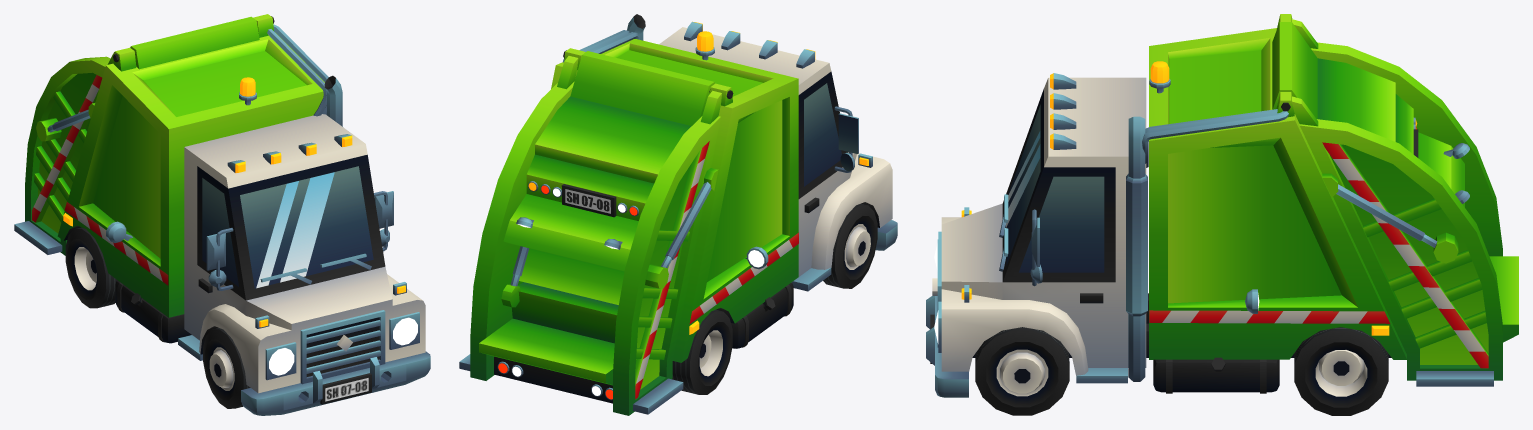
File: Garbage_truck.fbx
3 renders of one model, left to right at view 1: azimuth 30°, elevation 25°; view 2: azimuth 150°, elevation 25°; view 3: azimuth 270°, elevation 25°, orthographic. The views are drawn at different scales.
Parts seen in each view (by area): view 1: Garbage_truck; view 2: Garbage_truck; view 3: Garbage_truck.
Boxes of the visible parts, box(x1,y1,x2,y2) form: Garbage_truck: box(14, 14, 430, 415); Garbage_truck: box(459, 14, 897, 415); Garbage_truck: box(926, 14, 1518, 415).
Bounding box in the file's own units: 2.38 × 3.07 × 5.28.
Materials: 1 (1 with a texture image).
